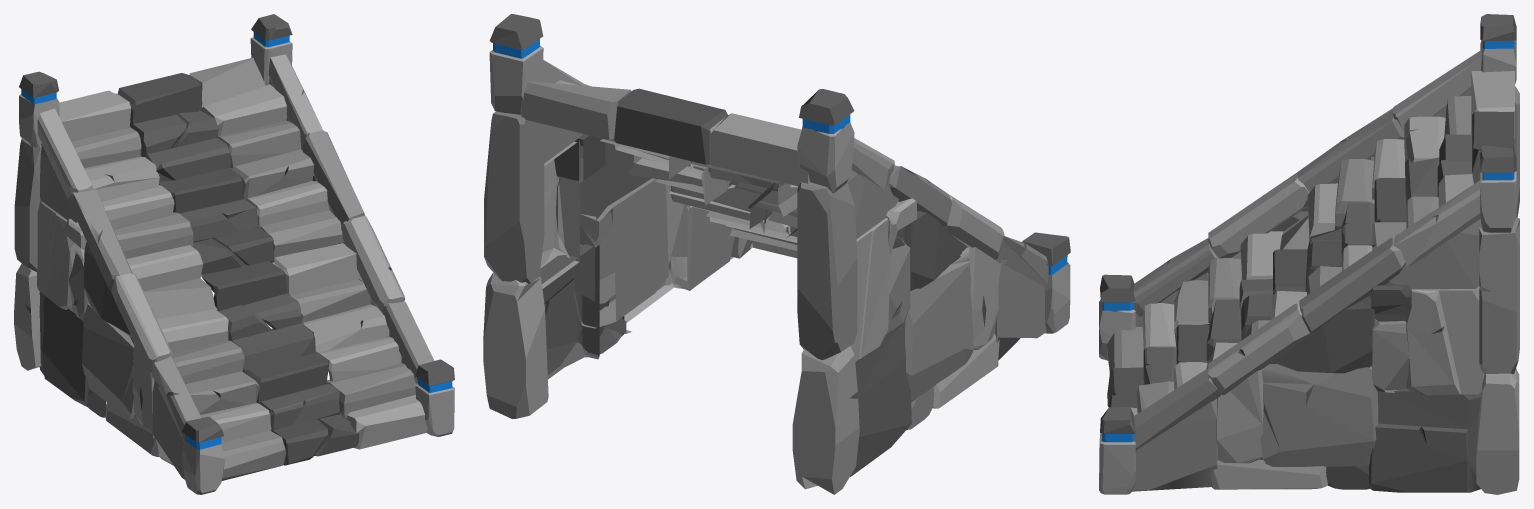
File: Rock_stair.002.fbx
The picture shows the model from 3 angles, left to right: view 1: azimuth 30°, elevation 25°; view 2: azimuth 150°, elevation 25°; view 3: azimuth 270°, elevation 25°; orthographic projection. The views are drawn at different scales.
Visible parts, largest first — view 1: Rock stair.002; view 2: Rock stair.002; view 3: Rock stair.002.
Boxes of the visible parts, x1,y1,x2,y2 form: Rock stair.002: (14,14,454,494); Rock stair.002: (483,14,1070,494); Rock stair.002: (1099,14,1519,494).
Bounding box in the file's own units: 96.51 × 101 × 114.
